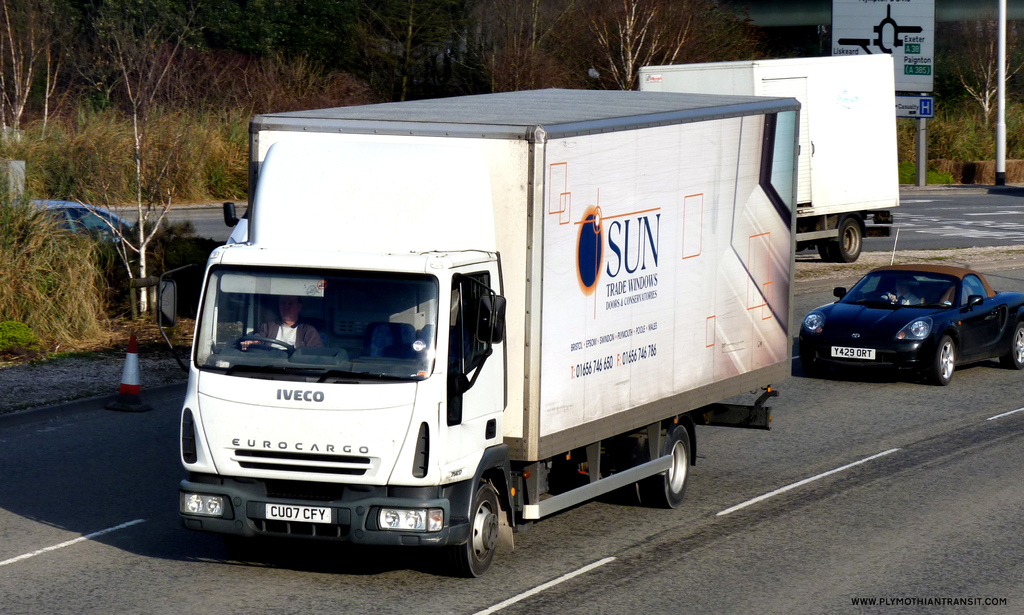Car: (798, 260, 1023, 373), (23, 199, 129, 249)
